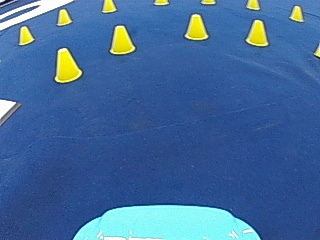cone: (53, 47, 82, 82), (108, 24, 135, 54), (183, 13, 208, 40), (245, 19, 269, 45), (18, 25, 34, 44), (56, 8, 72, 25), (288, 5, 304, 22), (101, 0, 116, 13), (246, 0, 259, 10)
